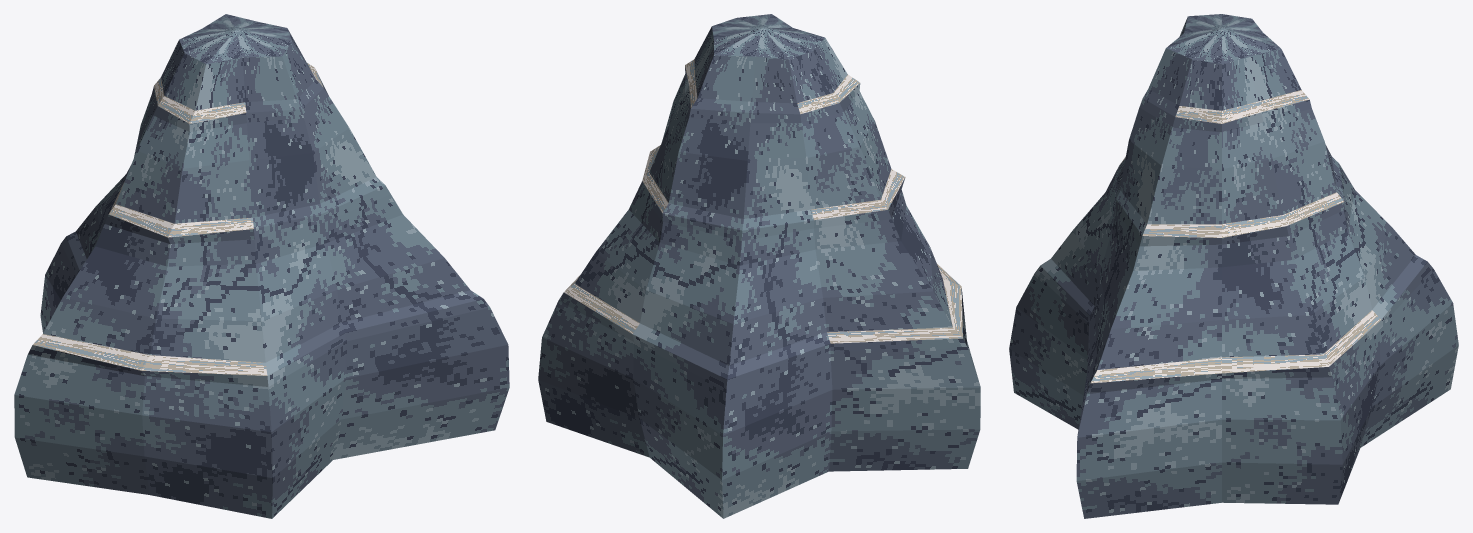
The model's file is TER-01_Roca_de_marea_c.gltf.
The picture shows the model from 3 angles, left to right: view 1: azimuth 30°, elevation 25°; view 2: azimuth 150°, elevation 25°; view 3: azimuth 270°, elevation 25°; orthographic projection.
Parts seen in each view (by area): view 1: TER-01_Roca_de_marea_c; view 2: TER-01_Roca_de_marea_c; view 3: TER-01_Roca_de_marea_c.
Part boxes in pixels (bbox=[...]): TER-01_Roca_de_marea_c: bbox=[14, 14, 509, 518]; TER-01_Roca_de_marea_c: bbox=[538, 14, 980, 518]; TER-01_Roca_de_marea_c: bbox=[1009, 14, 1458, 518].
Size of the model in its own units: 2.06 by 1.85 by 1.9.
2 materials, 2 textured.
